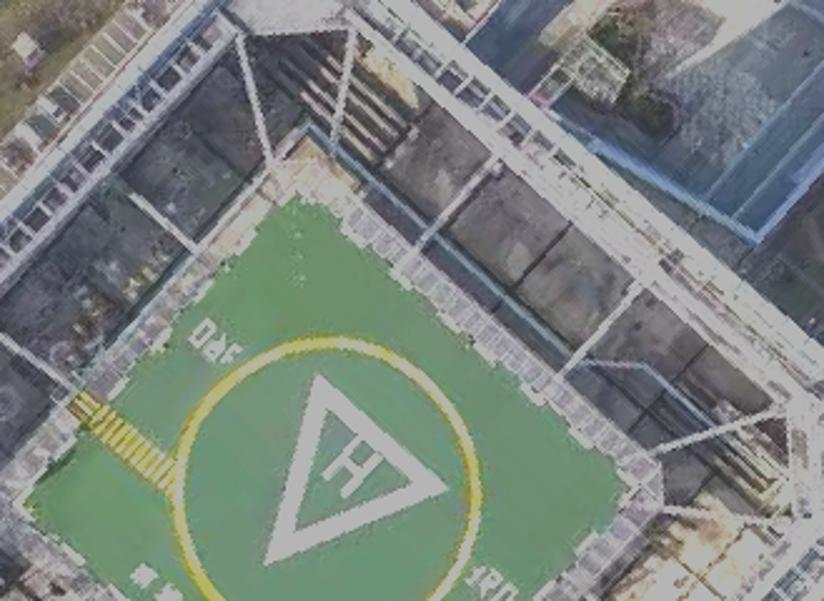Apron: (159, 311, 496, 601)
